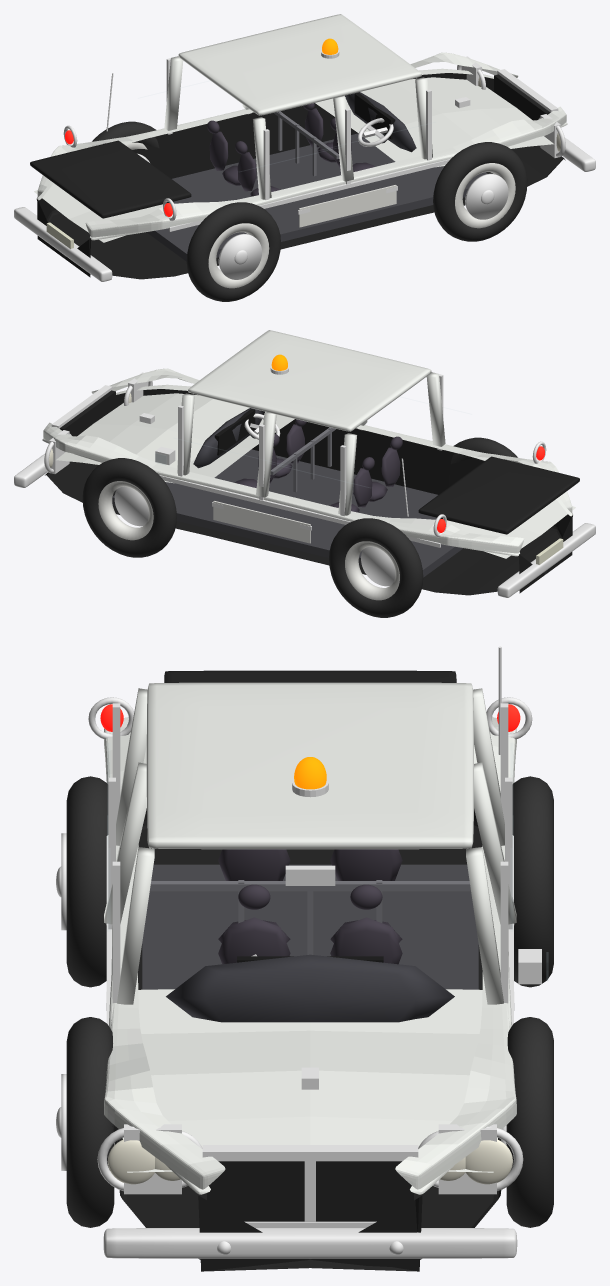
Rendered from PoliceCar.fbx.
3 views of the same model, one above another, from view 1: azimuth 30°, elevation 25°; view 2: azimuth 150°, elevation 25°; view 3: azimuth 270°, elevation 25° (orthographic). The views are drawn at different scales.
Visible parts, largest first — view 1: Roof, Body_LowerSlab, FloorPan, UpperBodyShell, Hood.002, TrunkLid, Tyre_FR, Tyre_RR, Badge_Patrol_L, TrunkDeck, Bumper_Rear, Whitewall_FR (+20 smaller); view 2: Roof, Body_LowerSlab, FloorPan, UpperBodyShell, Hood.002, TrunkLid, Tyre_FL, Tyre_RL, Badge_Patrol_R, TrunkDeck, Bumper_Rear, Whitewall_FL (+20 smaller); view 3: Roof, Hood.002, FloorPan, UpperBodyShell, Dashboard, Body_LowerSlab, Bumper_Front, Grille_Housing, Tyre_FR, Tyre_FL, Tyre_RR, Tyre_RL (+27 smaller).
Boxes of the visible parts, bbox=[...] form: Roof: bbox=[178, 14, 421, 115]; Body_LowerSlab: bbox=[37, 73, 565, 279]; FloorPan: bbox=[146, 133, 487, 261]; UpperBodyShell: bbox=[36, 52, 567, 240]; Hood.002: bbox=[315, 77, 553, 167]; TrunkLid: bbox=[30, 140, 191, 218]; Tyre_FR: bbox=[433, 142, 527, 241]; Tyre_RR: bbox=[186, 202, 280, 301]; Badge_Patrol_L: bbox=[299, 185, 396, 227]; TrunkDeck: bbox=[34, 183, 162, 242]; Bumper_Rear: bbox=[14, 207, 112, 281]; Whitewall_FR: bbox=[455, 163, 515, 228]; Roof: bbox=[188, 330, 431, 431]; Body_LowerSlab: bbox=[45, 389, 572, 595]; FloorPan: bbox=[112, 449, 463, 577]; UpperBodyShell: bbox=[42, 368, 573, 556]; Hood.002: bbox=[56, 393, 294, 483]; TrunkLid: bbox=[418, 456, 579, 534]; Tyre_FL: bbox=[82, 458, 176, 557]; Tyre_RL: bbox=[329, 518, 423, 617]; Badge_Patrol_R: bbox=[213, 501, 310, 543]; TrunkDeck: bbox=[447, 499, 575, 558]; Bumper_Rear: bbox=[497, 523, 595, 597]; Whitewall_FL: bbox=[98, 481, 153, 540]; Roof: bbox=[146, 682, 473, 849]; Hood.002: bbox=[122, 989, 497, 1172]; FloorPan: bbox=[142, 864, 478, 989]; UpperBodyShell: bbox=[104, 717, 516, 1194]; Dashboard: bbox=[166, 954, 454, 1022]; Body_LowerSlab: bbox=[112, 808, 508, 1271]; Bumper_Front: bbox=[103, 1228, 517, 1258]; Grille_Housing: bbox=[207, 1161, 413, 1221]; Tyre_FR: bbox=[66, 1017, 114, 1227]; Tyre_FL: bbox=[506, 1017, 553, 1227]; Tyre_RR: bbox=[66, 776, 108, 987]; Tyre_RL: bbox=[512, 776, 553, 987].
Size of the model in its own units: 5.25 by 1.88 by 2.31.
